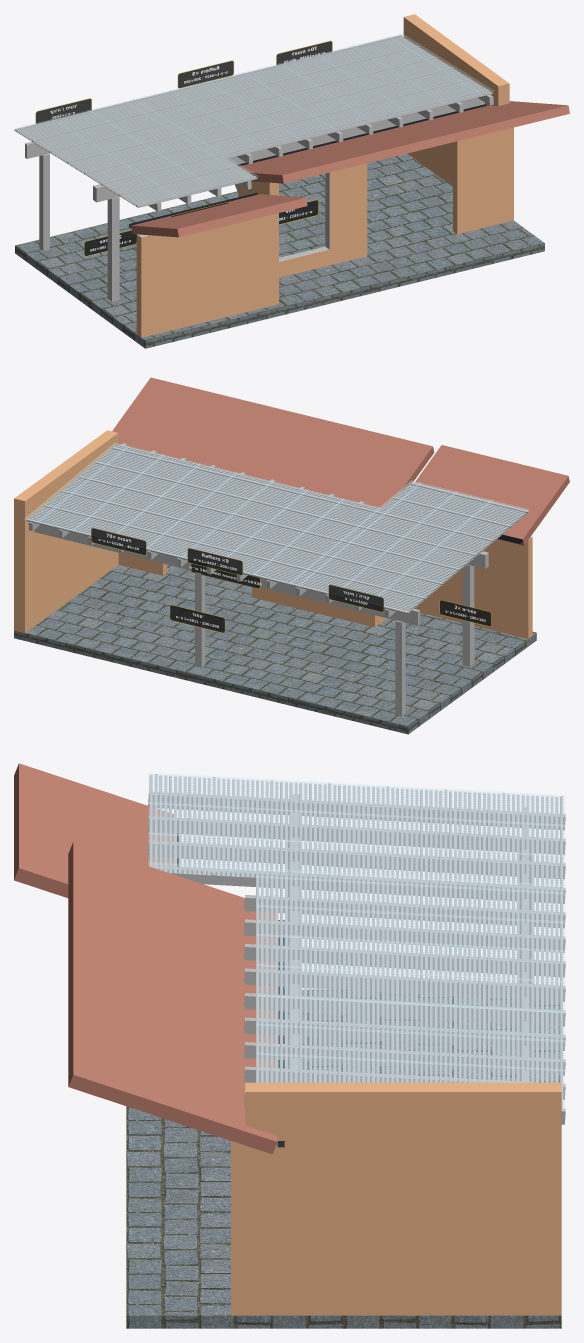
Rendered from Pergola_45deg.gltf.
3 views of the same model, one above another, from view 1: azimuth 30°, elevation 25°; view 2: azimuth 150°, elevation 25°; view 3: azimuth 270°, elevation 25° (orthographic). The views are drawn at different scales.
Parts seen in each view (by area): view 1: Pergola_Concept_no_rear_beam_45_deg_supportBH_WAVE_5_EDITABL; view 2: Pergola_Concept_no_rear_beam_45_deg_supportBH_WAVE_5_EDITABL; view 3: Pergola_Concept_no_rear_beam_45_deg_supportBH_WAVE_5_EDITABL.
Part boxes in pixels (box(x1,y1,x2,y2)): Pergola_Concept_no_rear_beam_45_deg_supportBH_WAVE_5_EDITABL: box(14, 14, 569, 348); Pergola_Concept_no_rear_beam_45_deg_supportBH_WAVE_5_EDITABL: box(14, 377, 569, 734); Pergola_Concept_no_rear_beam_45_deg_supportBH_WAVE_5_EDITABL: box(14, 763, 565, 1328).
Bounding box in the file's own units: 11.05 × 3.96 × 7.66.
